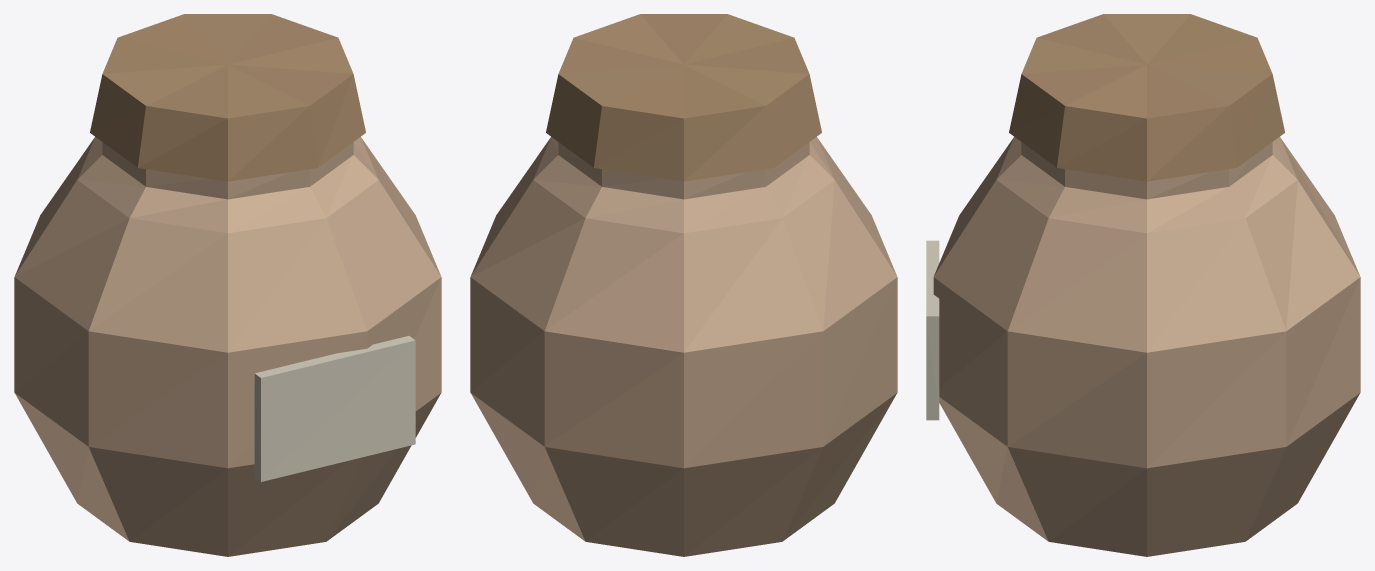
The model's file is jar_clay.glb.
3 views of the same model, side by side, from view 1: azimuth 30°, elevation 25°; view 2: azimuth 150°, elevation 25°; view 3: azimuth 270°, elevation 25° (orthographic).
Visible parts, largest first — view 1: jar_clay; view 2: jar_clay; view 3: jar_clay.
Boxes of the visible parts, box(x1,y1,x2,y2) form: jar_clay: box(14, 14, 441, 556); jar_clay: box(470, 14, 897, 556); jar_clay: box(926, 14, 1360, 556).
Size of the model in its own units: 0.3297 by 0.37 by 0.3404.
